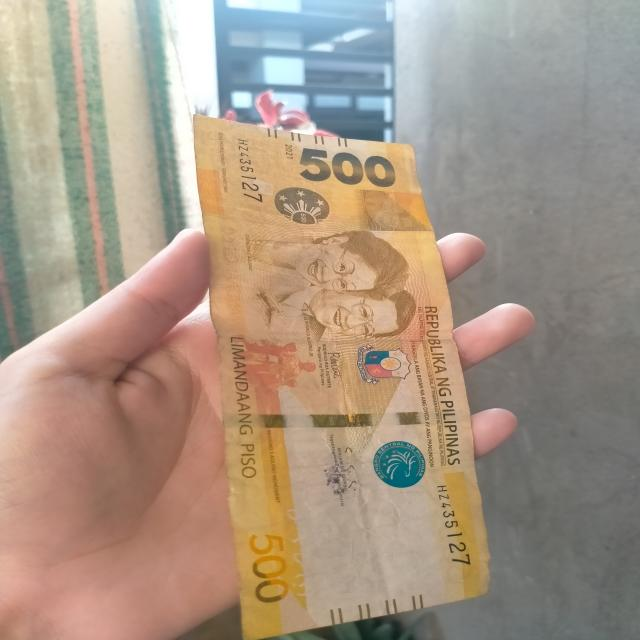concealed_value: (352, 187, 435, 239)
optically_variable_device: (259, 178, 347, 232)
security_thread: (228, 409, 464, 430)
see_through_mark: (272, 504, 322, 604)
serial_number: (430, 479, 480, 576), (220, 133, 272, 208)
